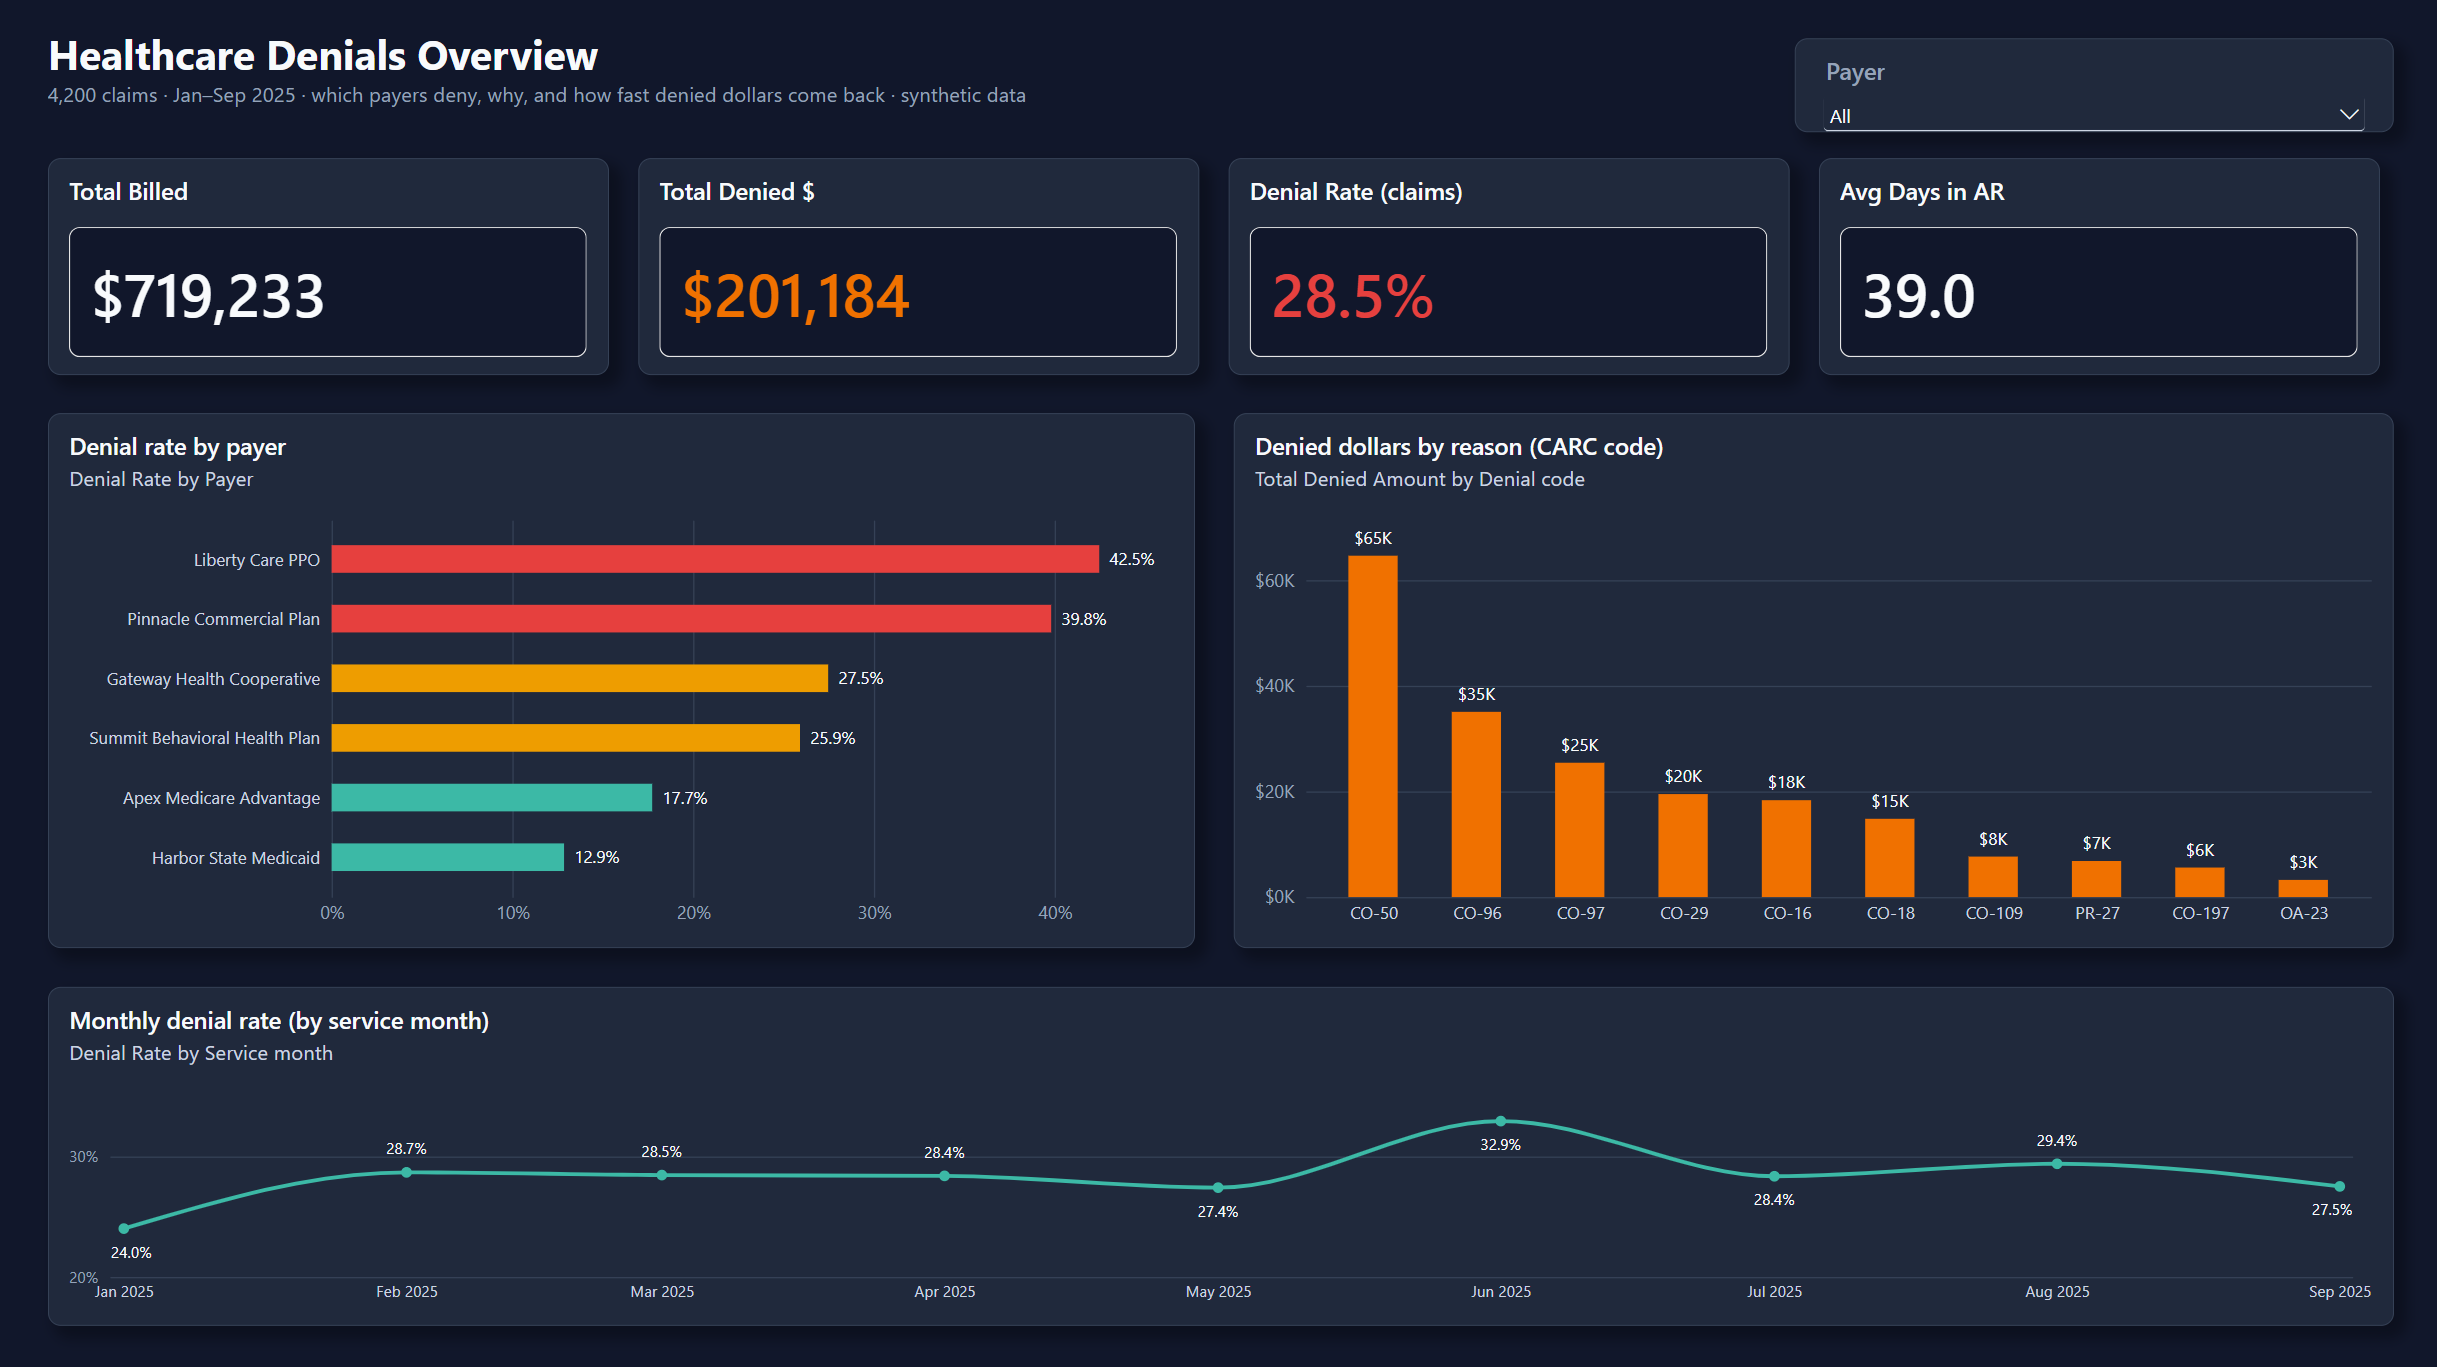

The page's visual inventory and layout, read from the dashboard file:
{"tool":"powerbi","page":{"name":"Denials Overview","canvas":[1920,1080],"ordinal":0},"visuals":[{"type":"textbox","box":[40,20,1340,84],"z":100},{"type":"slicer","fields":{"Values":["FactClaims.payer_name"]},"box":[1410,30,470,74],"z":150},{"type":"cardVisual","title":"Total Billed","fields":{"Data":["_Measures.Total Billed Amount"]},"box":[40,124,440,170],"z":200},{"type":"cardVisual","title":"Total Denied $","fields":{"Data":["_Measures.Total Denied Amount"]},"box":[503,124,440,170],"z":200},{"type":"cardVisual","title":"Denial Rate (claims)","fields":{"Data":["_Measures.Denial Rate"]},"box":[966,124,440,170],"z":200},{"type":"cardVisual","title":"Avg Days in AR","fields":{"Data":["_Measures.Average Days in AR"]},"box":[1429,124,440,170],"z":200},{"type":"clusteredBarChart","title":"Denial rate by payer","fields":{"Category":["FactClaims.payer_name"],"Y":["_Measures.Denial Rate"]},"box":[40,324,900,420],"z":300},{"type":"clusteredColumnChart","title":"Denied dollars by reason (CARC code)","fields":{"Category":["FactClaims.Denial Code"],"Y":["_Measures.Total Denied Amount"]},"box":[970,324,910,420],"z":300},{"type":"lineChart","title":"Monthly denial rate (by service month)","fields":{"Category":["FactClaims.Service Month"],"Y":["_Measures.Denial Rate"]},"box":[40,774,1840,266],"z":300}]}

Visuals, with their boxes in screenshot pixels (x1, y1, x2, y2), scaled from the page's 1920x1080 canvas onto the 2437x1367 screenshot:
textbox: region(51, 25, 1752, 132)
slicer - FactClaims.payer_name: region(1790, 38, 2386, 132)
"Total Billed" cardVisual: region(51, 157, 609, 372)
"Total Denied $" cardVisual: region(638, 157, 1197, 372)
"Denial Rate (claims)" cardVisual: region(1226, 157, 1785, 372)
"Avg Days in AR" cardVisual: region(1814, 157, 2372, 372)
"Denial rate by payer" clusteredBarChart: region(51, 410, 1193, 942)
"Denied dollars by reason (CARC code)" clusteredColumnChart: region(1231, 410, 2386, 942)
"Monthly denial rate (by service month)" lineChart: region(51, 980, 2386, 1316)
